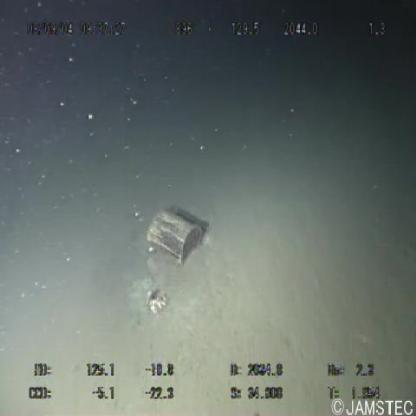Rác: (146, 206, 208, 265)
